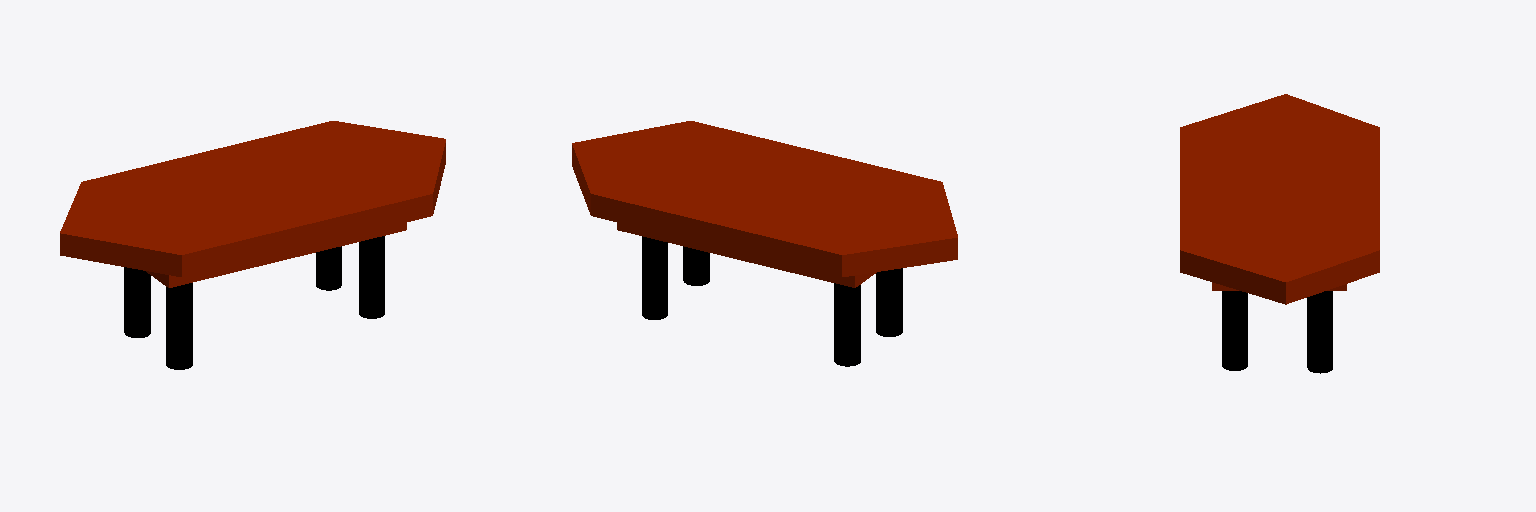
The model's file is stol1.obj.
3 views of the same model, side by side, from view 1: azimuth 30°, elevation 25°; view 2: azimuth 150°, elevation 25°; view 3: azimuth 270°, elevation 25° (orthographic).
Visible parts, largest first — view 1: Mesh1 Model; view 2: Mesh1 Model; view 3: Mesh1 Model.
Part boxes in pixels (left/top/right/bottom): Mesh1 Model: left=60, top=121, right=445, bottom=369; Mesh1 Model: left=572, top=121, right=957, bottom=366; Mesh1 Model: left=1180, top=94, right=1379, bottom=373.
Size of the model in its own units: 11636 by 3899 by 5219.